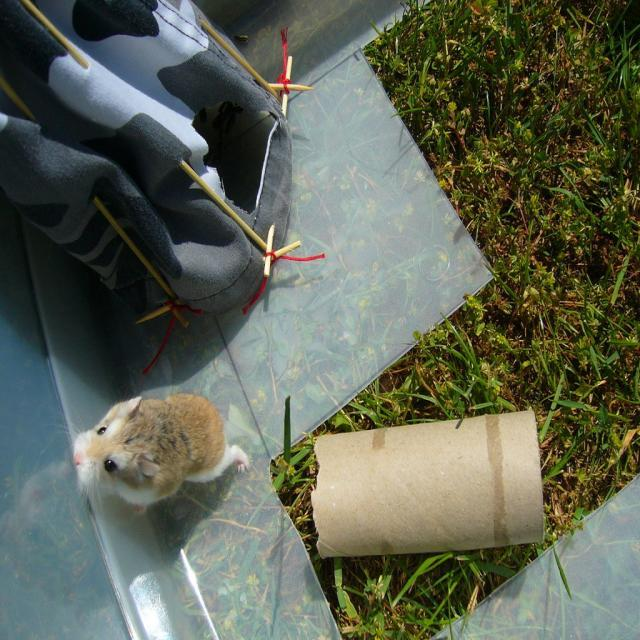rat: (63, 388, 248, 518)
